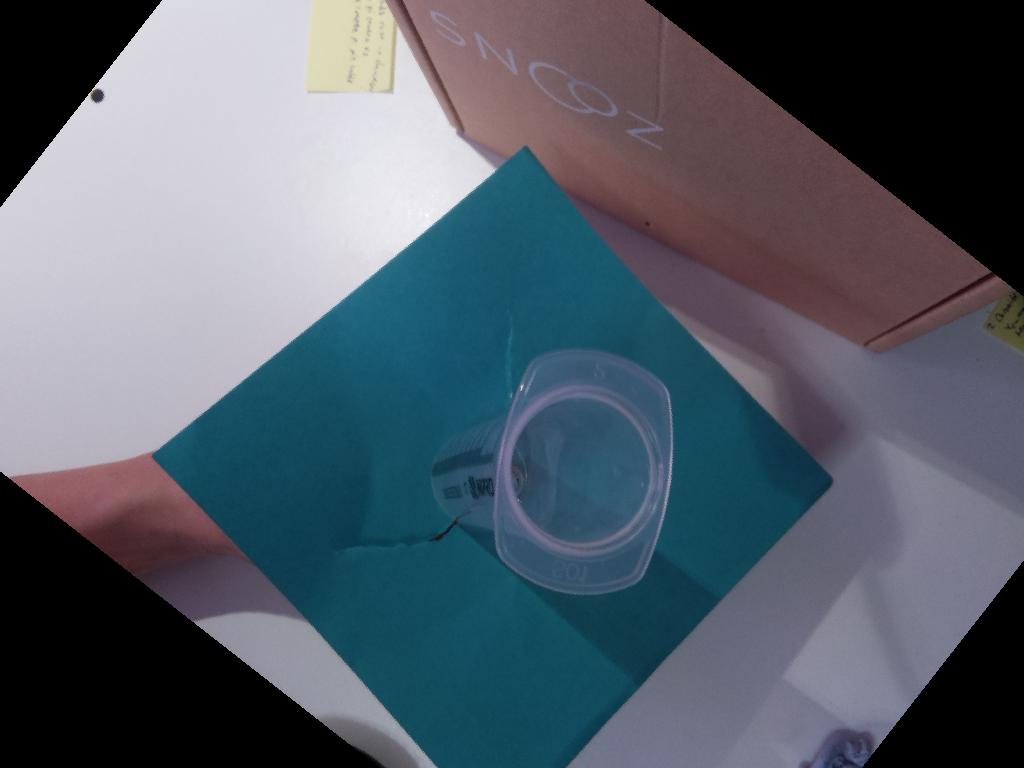clean: (495, 348, 675, 596)
